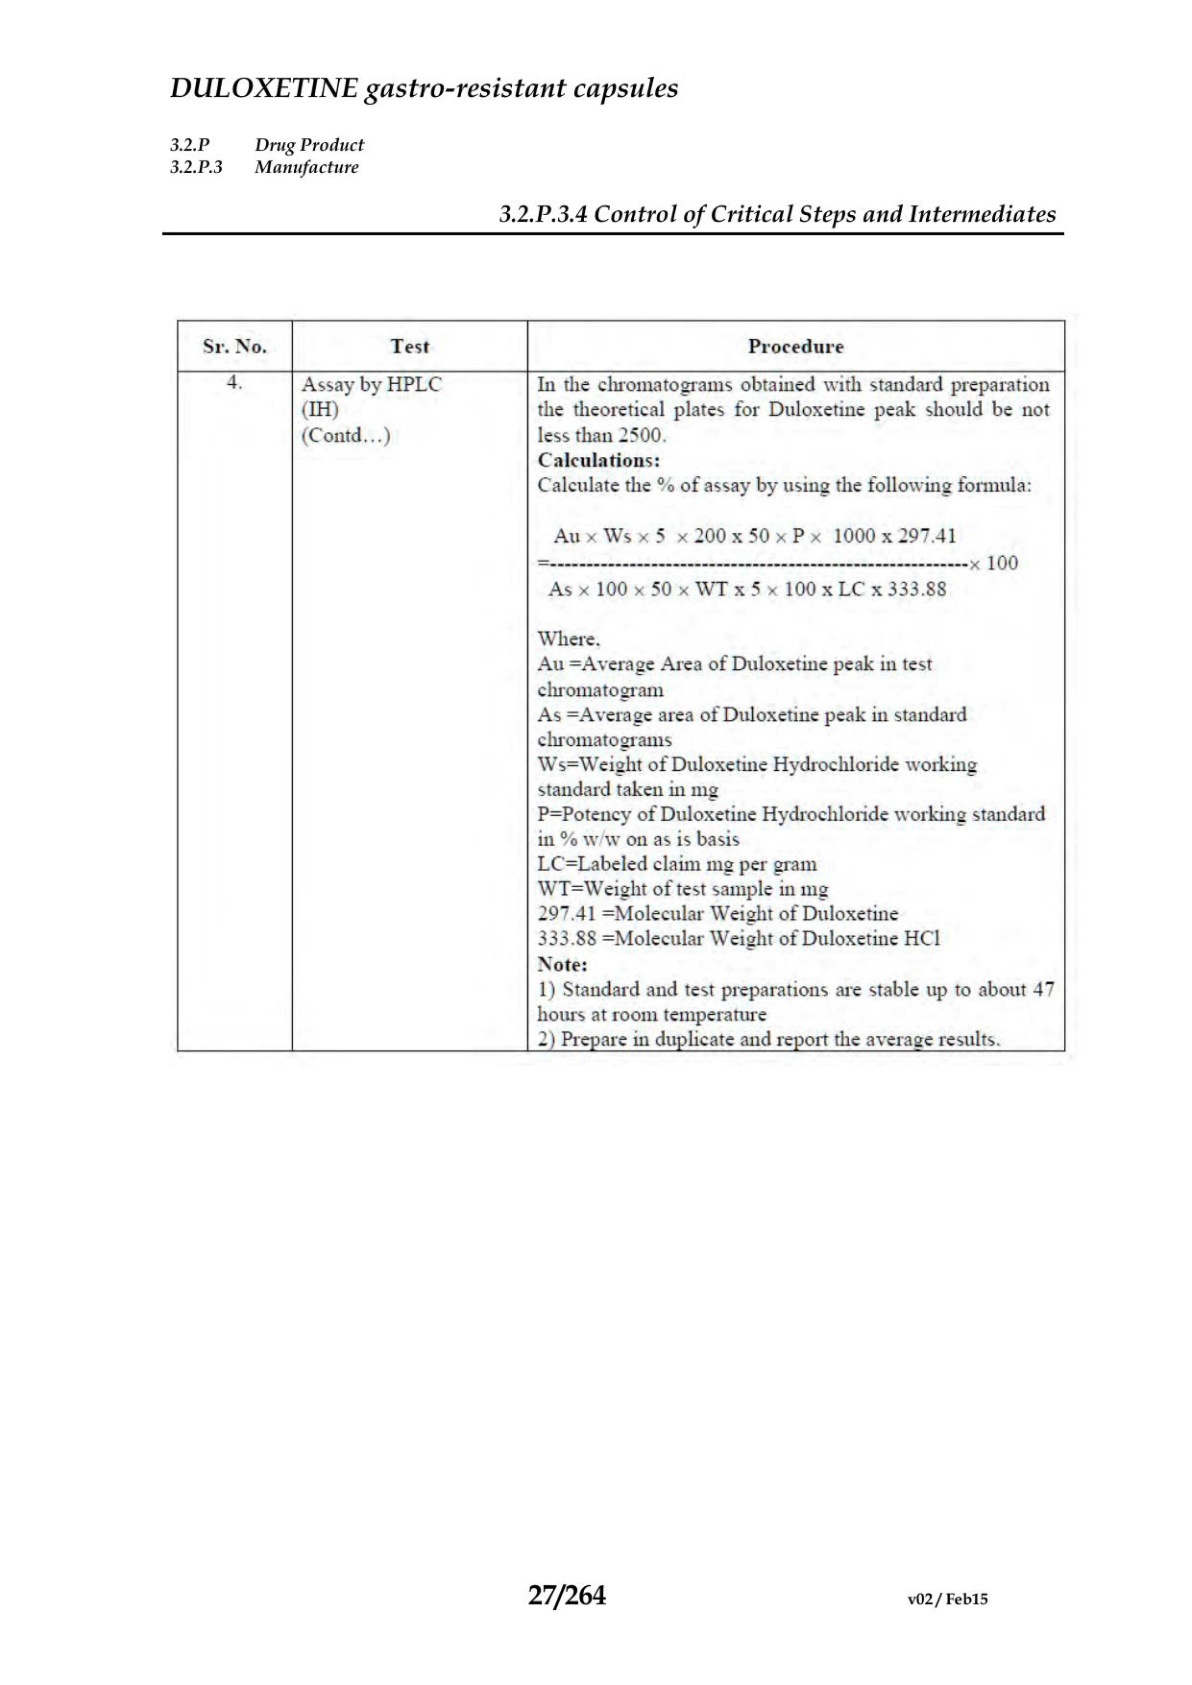full_lined: (175, 317, 1066, 1052)
